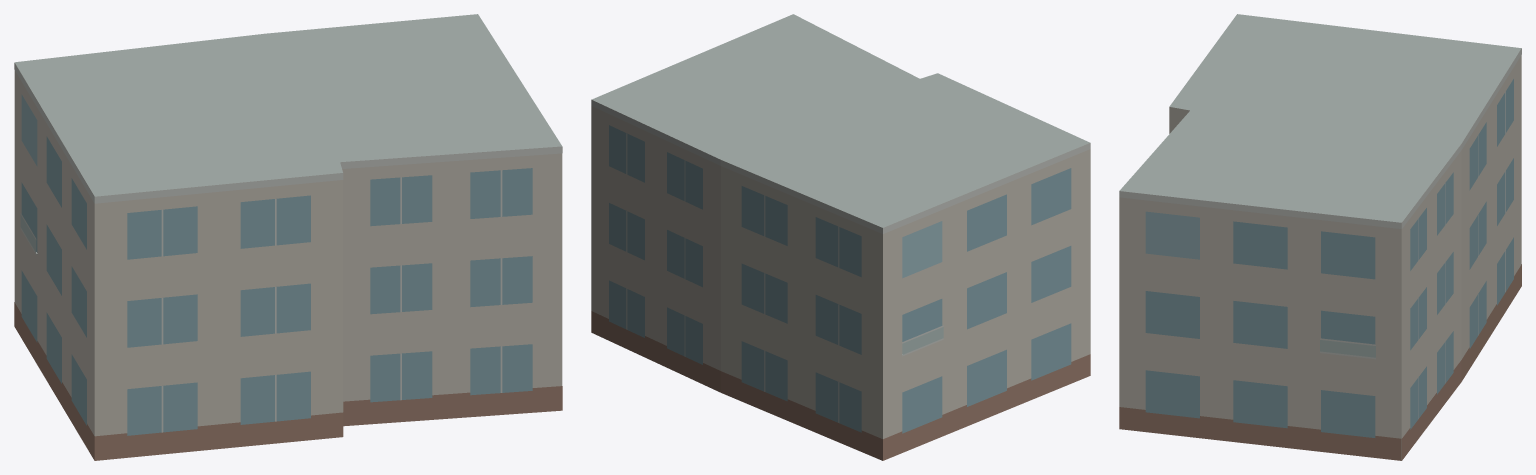
File: survey-upis-32940981.glb
3 views of the same model, side by side, from view 1: azimuth 30°, elevation 25°; view 2: azimuth 150°, elevation 25°; view 3: azimuth 270°, elevation 25° (orthographic). The views are drawn at different scales.
Parts seen in each view (by area): view 1: survey-upis-32940981.tmp; view 2: survey-upis-32940981.tmp; view 3: survey-upis-32940981.tmp.
Boxes of the visible parts, bbox=[...] form: survey-upis-32940981.tmp: bbox=[14, 14, 562, 460]; survey-upis-32940981.tmp: bbox=[591, 14, 1090, 460]; survey-upis-32940981.tmp: bbox=[1119, 14, 1521, 460].
Size of the model in its own units: 17.22 by 9.15 by 14.03.
